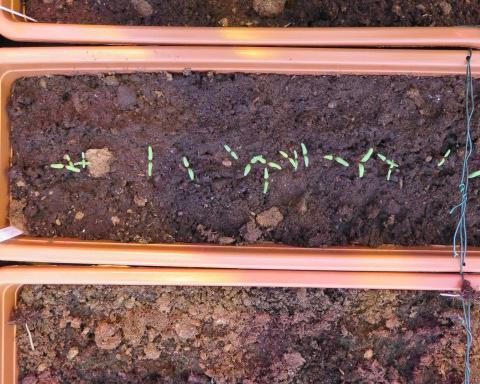crop: (355, 144, 374, 179), (317, 152, 349, 167), (179, 153, 196, 181), (297, 139, 310, 169), (433, 146, 451, 167), (143, 143, 154, 177), (259, 165, 271, 195), (221, 141, 239, 160)
